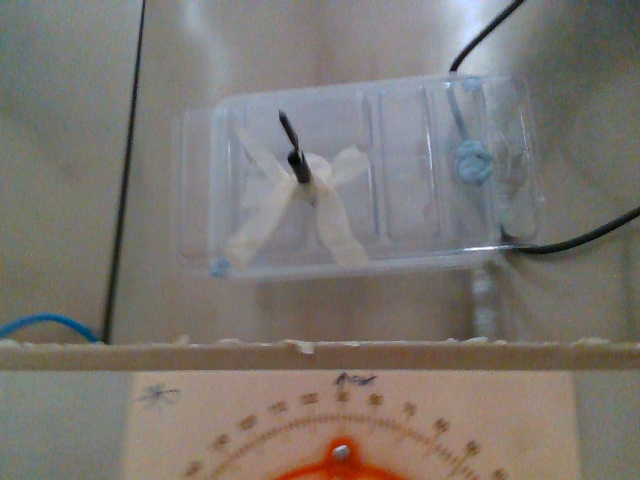test_strip: (276, 108, 302, 161)
